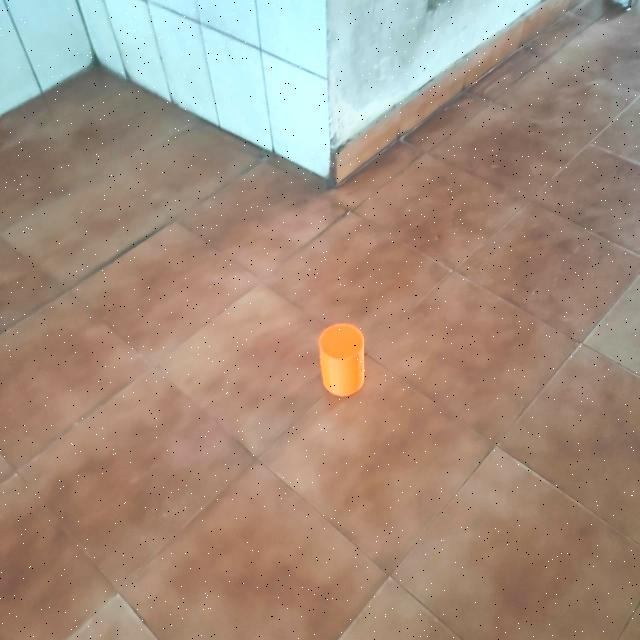Cylinder: (318, 321, 366, 397)
